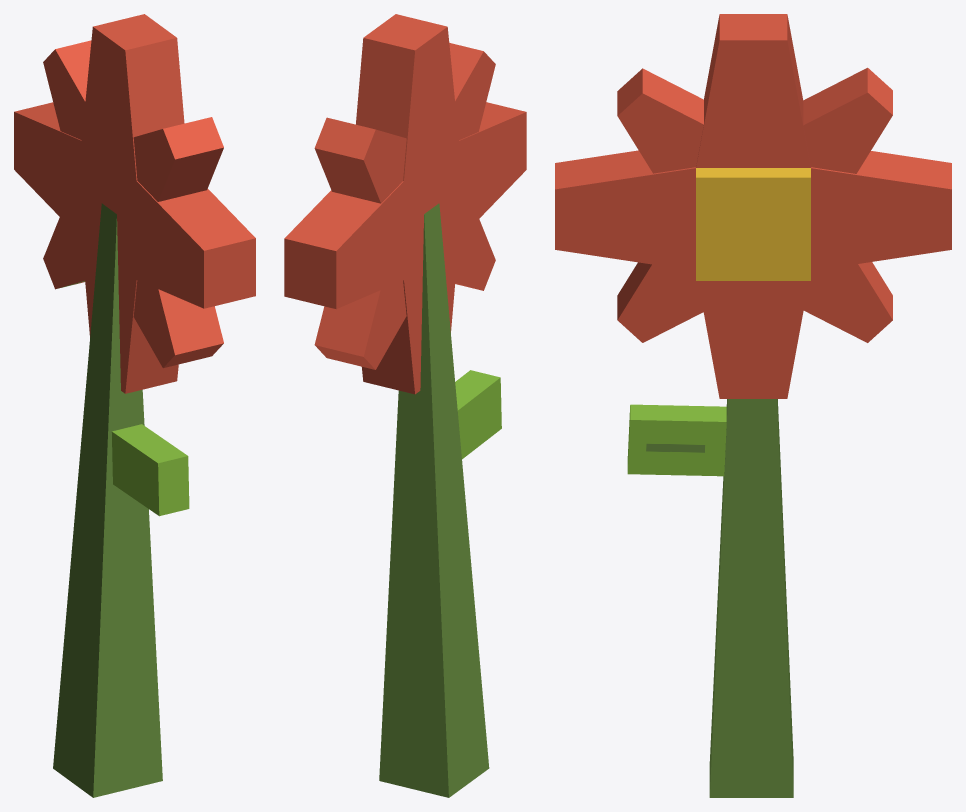
File: fleur4.glb
3 renders of one model, left to right at view 1: azimuth 30°, elevation 25°; view 2: azimuth 150°, elevation 25°; view 3: azimuth 270°, elevation 25°, orthographic. The views are drawn at different scales.
Visible parts, largest first — view 1: Cube; view 2: Cube; view 3: Cube.
Boxes of the visible parts, bbox=[...] form: Cube: bbox=[14, 14, 255, 797]; Cube: bbox=[284, 14, 526, 797]; Cube: bbox=[555, 14, 951, 797].
Bounding box in the file's own units: 0.1545 × 1.01 × 0.4723.
1 material, 1 textured.
